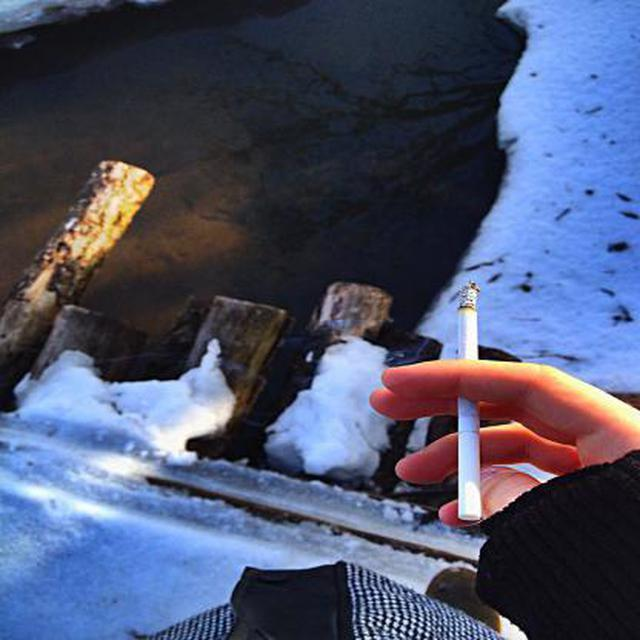smoking: (450, 276, 492, 529)
